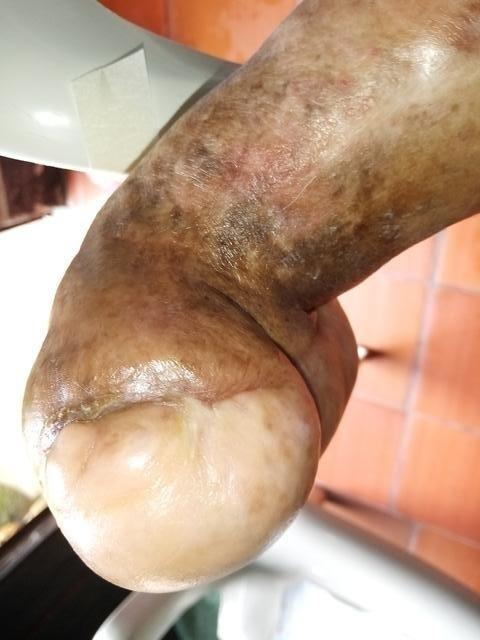wound: (28, 377, 218, 455)
